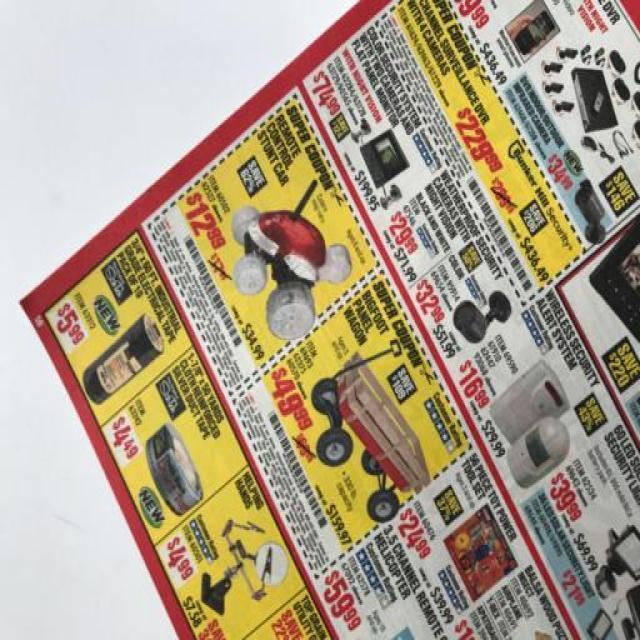paper: (16, 0, 638, 638)
